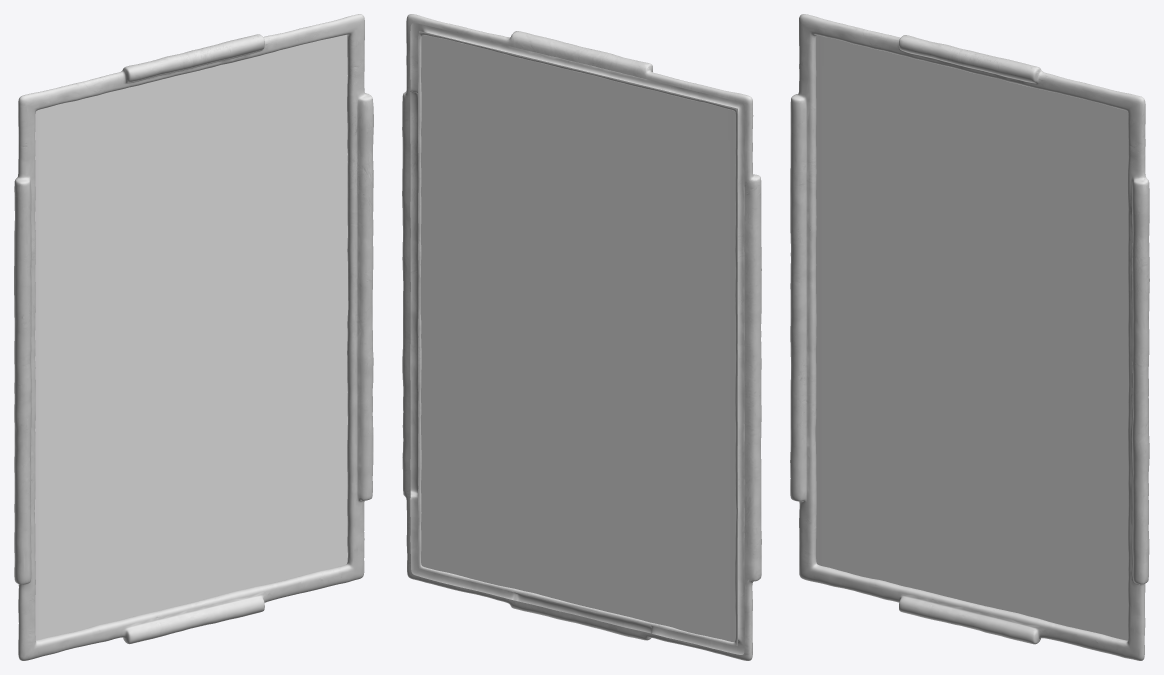
The model's file is mirror_wall_modern_alexv.glb.
3 views of the same model, side by side, from view 1: azimuth 30°, elevation 25°; view 2: azimuth 150°, elevation 25°; view 3: azimuth 330°, elevation 25° (orthographic).
Visible parts, largest first — view 1: Object_4; view 2: Object_4; view 3: Object_4.
Part boxes in pixels (x1,y1,x2,y2): Object_4: (14, 14, 373, 660); Object_4: (402, 14, 761, 660); Object_4: (790, 14, 1149, 660).
Size of the model in its own units: 0.7601 by 1.17 by 0.0336.
Materials: 1 (1 with a texture image).
